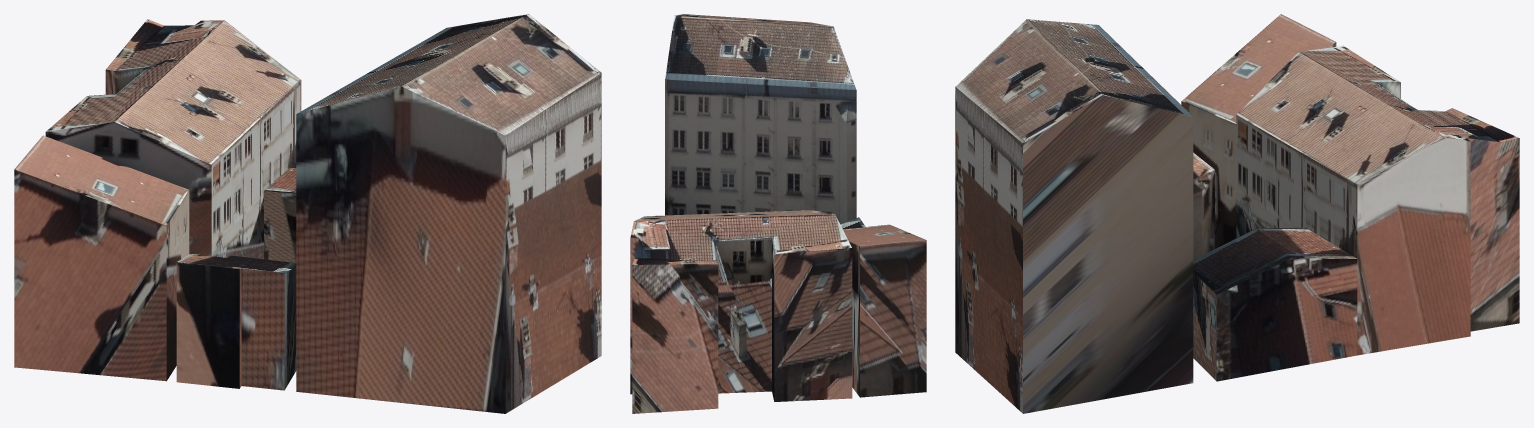
The picture shows the model from 3 angles, left to right: view 1: azimuth 30°, elevation 25°; view 2: azimuth 150°, elevation 25°; view 3: azimuth 270°, elevation 25°; orthographic projection. The views are drawn at different scales.
Visible parts, largest first — view 1: Z_UP; view 2: Z_UP; view 3: Z_UP.
Boxes of the visible parts, left/top/right/bottom form: Z_UP: left=14, top=14, right=601, bottom=413; Z_UP: left=630, top=14, right=926, bottom=413; Z_UP: left=955, top=14, right=1519, bottom=413.
Size of the model in its own units: 35.31 by 23.78 by 39.92.
Materials: 2 (1 with a texture image).
